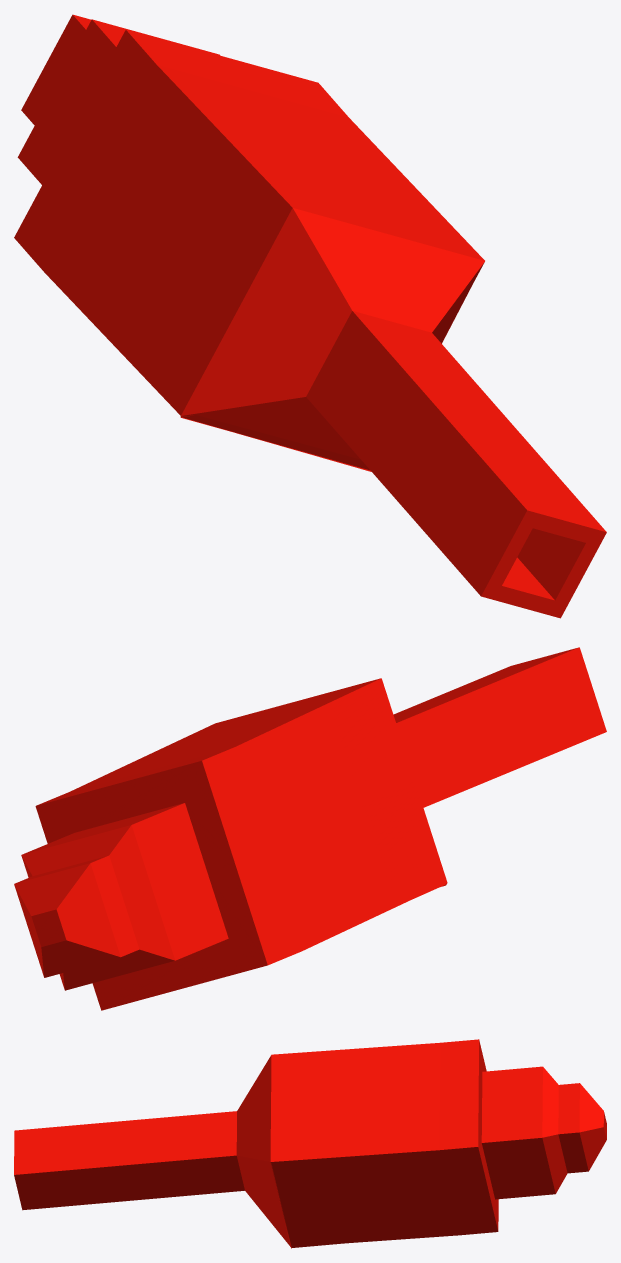
Rendered from gunModuleSingle.fbx.
The picture shows the model from 3 angles, top to bottom: view 1: azimuth 30°, elevation 25°; view 2: azimuth 150°, elevation 25°; view 3: azimuth 270°, elevation 25°; orthographic projection. The views are drawn at different scales.
Visible parts, largest first — view 1: arms; view 2: arms; view 3: arms.
Boxes of the visible parts, left/top/right/bottom form: arms: left=14, top=14, right=606, bottom=618; arms: left=14, top=647, right=606, bottom=1010; arms: left=14, top=1039, right=606, bottom=1248.
Bounding box in the file's own units: 86.25 × 91.17 × 261.
